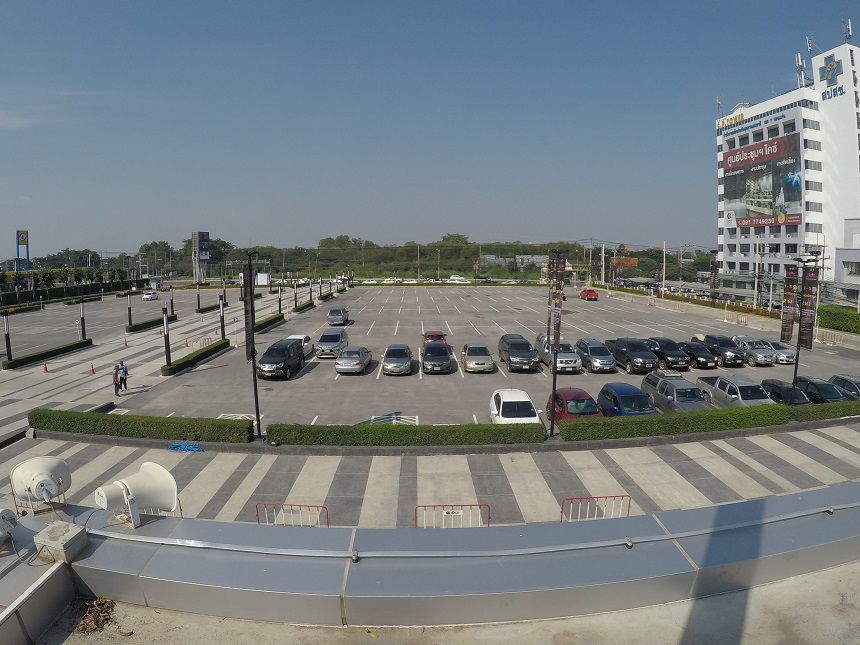busy: (482, 393, 534, 420), (257, 350, 298, 381), (709, 374, 751, 401), (549, 348, 586, 376), (551, 388, 591, 413), (655, 382, 695, 406), (605, 386, 641, 410), (379, 355, 415, 378), (332, 355, 370, 376), (590, 350, 618, 378), (502, 353, 539, 374), (423, 355, 455, 377), (626, 352, 659, 373), (460, 356, 495, 374), (768, 380, 801, 399), (664, 350, 691, 368), (809, 383, 837, 399), (720, 345, 740, 364), (747, 353, 774, 366), (699, 352, 716, 369), (842, 380, 860, 396), (780, 349, 795, 363)
